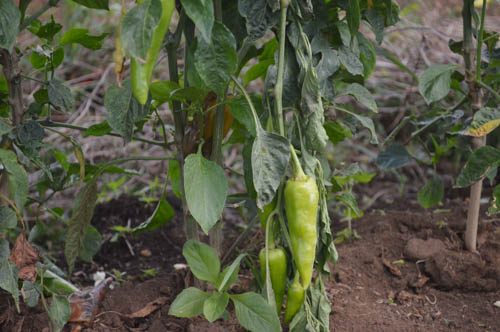ChiliPepper: (133, 6, 178, 114), (287, 180, 316, 286), (257, 251, 287, 315), (282, 286, 303, 320)
